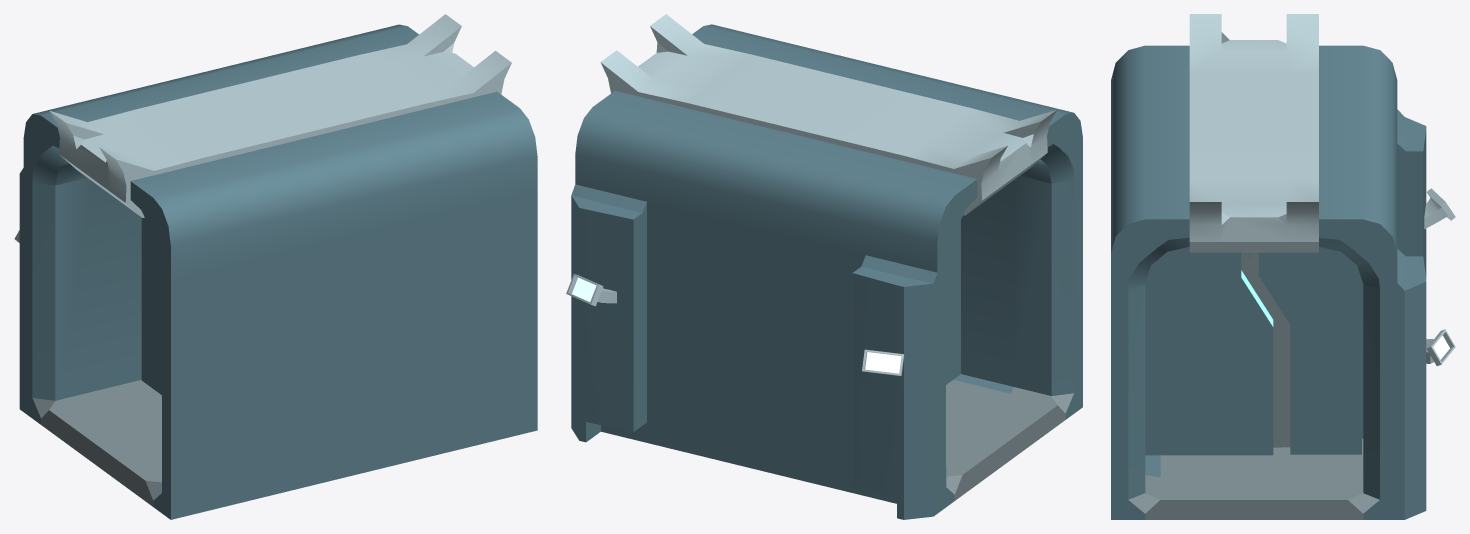
Rendered from doorv4.fbx.
3 renders of one model, left to right at view 1: azimuth 30°, elevation 25°; view 2: azimuth 150°, elevation 25°; view 3: azimuth 270°, elevation 25°, orthographic. The views are drawn at different scales.
Visible parts, largest first — view 1: Doorframe.001, DoorRight; view 2: Doorframe.001, DoorLeft; view 3: Doorframe.001, DoorLeft, DoorRight.
Part boxes in pixels (x1,y1,x2,y2): Doorframe.001: (14, 14, 537, 519); DoorRight: (141, 217, 161, 394); Doorframe.001: (566, 14, 1082, 519); DoorLeft: (946, 220, 960, 384); Doorframe.001: (1111, 14, 1455, 519); DoorLeft: (1145, 247, 1281, 455); DoorRight: (1249, 247, 1363, 454).
Size of the model in its own units: 324 by 261 by 251.
